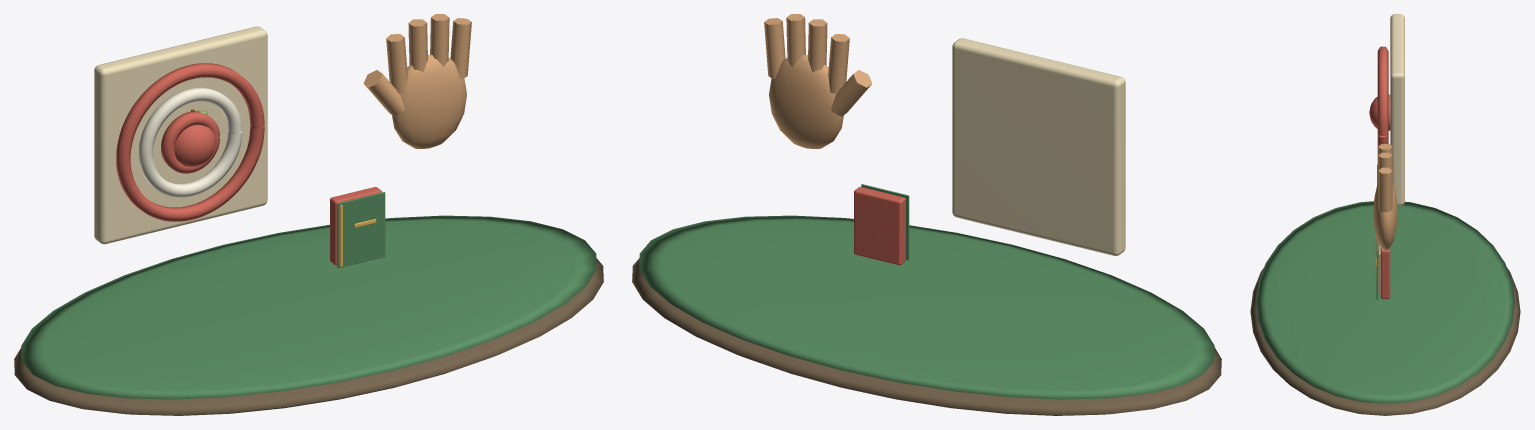
Rendered from complete-first-choose-by-hand.glb.
The picture shows the model from 3 angles, left to right: view 1: azimuth 30°, elevation 25°; view 2: azimuth 150°, elevation 25°; view 3: azimuth 270°, elevation 25°; orthographic projection. The views are drawn at different scales.
Visible parts, largest first — view 1: complete-first-choose-by-hand_surface_01, complete-first-choose-by-hand_surface_02, complete-first-choose-by-hand_surface_00, complete-first-choose-by-hand_surface_03, complete-first-choose-by-hand_surface_05, complete-first-choose-by-hand_surface_04; view 2: complete-first-choose-by-hand_surface_01, complete-first-choose-by-hand_surface_02, complete-first-choose-by-hand_surface_00, complete-first-choose-by-hand_surface_05, complete-first-choose-by-hand_surface_03; view 3: complete-first-choose-by-hand_surface_01, complete-first-choose-by-hand_surface_00, complete-first-choose-by-hand_surface_02, complete-first-choose-by-hand_surface_05, complete-first-choose-by-hand_surface_03.
Part boxes in pixels (bbox=[...]): complete-first-choose-by-hand_surface_01: bbox=[21, 192, 596, 399]; complete-first-choose-by-hand_surface_02: bbox=[94, 26, 267, 244]; complete-first-choose-by-hand_surface_00: bbox=[14, 258, 603, 415]; complete-first-choose-by-hand_surface_03: bbox=[116, 63, 381, 265]; complete-first-choose-by-hand_surface_05: bbox=[363, 14, 471, 148]; complete-first-choose-by-hand_surface_04: bbox=[138, 87, 242, 197]; complete-first-choose-by-hand_surface_01: bbox=[639, 184, 1214, 399]; complete-first-choose-by-hand_surface_02: bbox=[952, 38, 1125, 255]; complete-first-choose-by-hand_surface_00: bbox=[632, 258, 1221, 415]; complete-first-choose-by-hand_surface_05: bbox=[764, 14, 872, 148]; complete-first-choose-by-hand_surface_03: bbox=[854, 187, 905, 265]; complete-first-choose-by-hand_surface_01: bbox=[1256, 201, 1514, 403]; complete-first-choose-by-hand_surface_00: bbox=[1250, 268, 1520, 415]; complete-first-choose-by-hand_surface_02: bbox=[1378, 14, 1404, 295]; complete-first-choose-by-hand_surface_05: bbox=[1373, 144, 1397, 250]; complete-first-choose-by-hand_surface_03: bbox=[1369, 46, 1390, 299].
Size of the model in its own units: 4.56 by 2.42 by 2.5.
